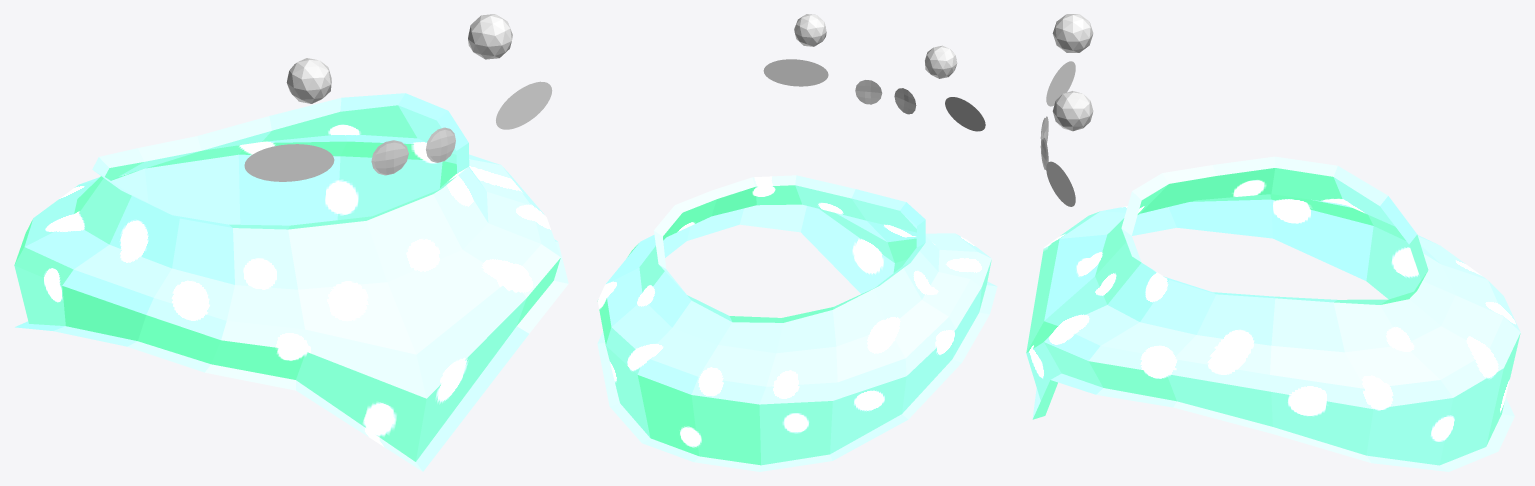
File: Piggy_6.glb
The picture shows the model from 3 angles, left to right: view 1: azimuth 30°, elevation 25°; view 2: azimuth 150°, elevation 25°; view 3: azimuth 270°, elevation 25°; orthographic projection. The views are drawn at different scales.
Visible parts, largest first — view 1: unnamed (×4); view 2: unnamed (×4); view 3: unnamed (×3).
Part boxes in pixels (<box>): unnamed (×4): <box>14,14,568,471</box>; unnamed (×4): <box>597,14,997,471</box>; unnamed (×3): <box>1026,14,1520,471</box>.
Bounding box in the file's own units: 1.76 × 1.5 × 1.84.
